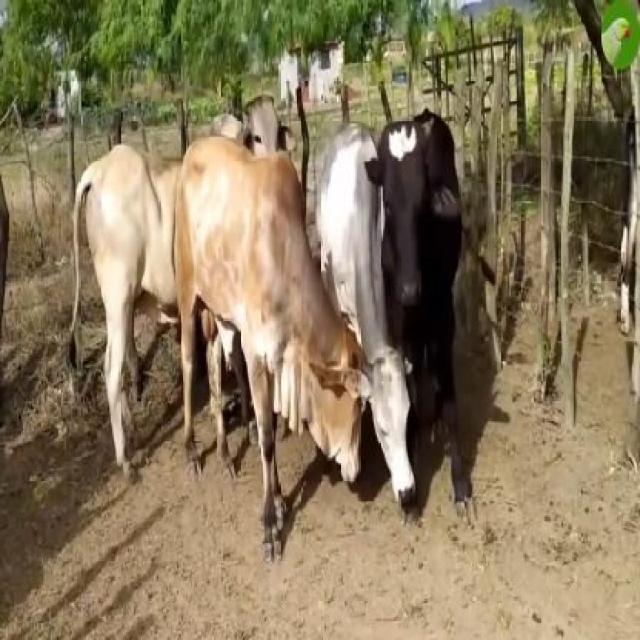Cow: (177, 138, 366, 557), (375, 110, 474, 522), (315, 112, 414, 520)
